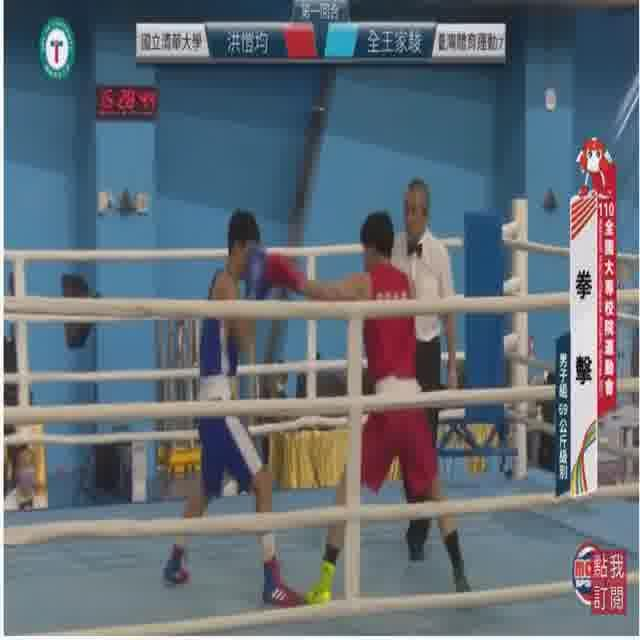blue-player: (159, 207, 308, 610)
red-player: (263, 210, 475, 611)
referee: (369, 172, 464, 562)
